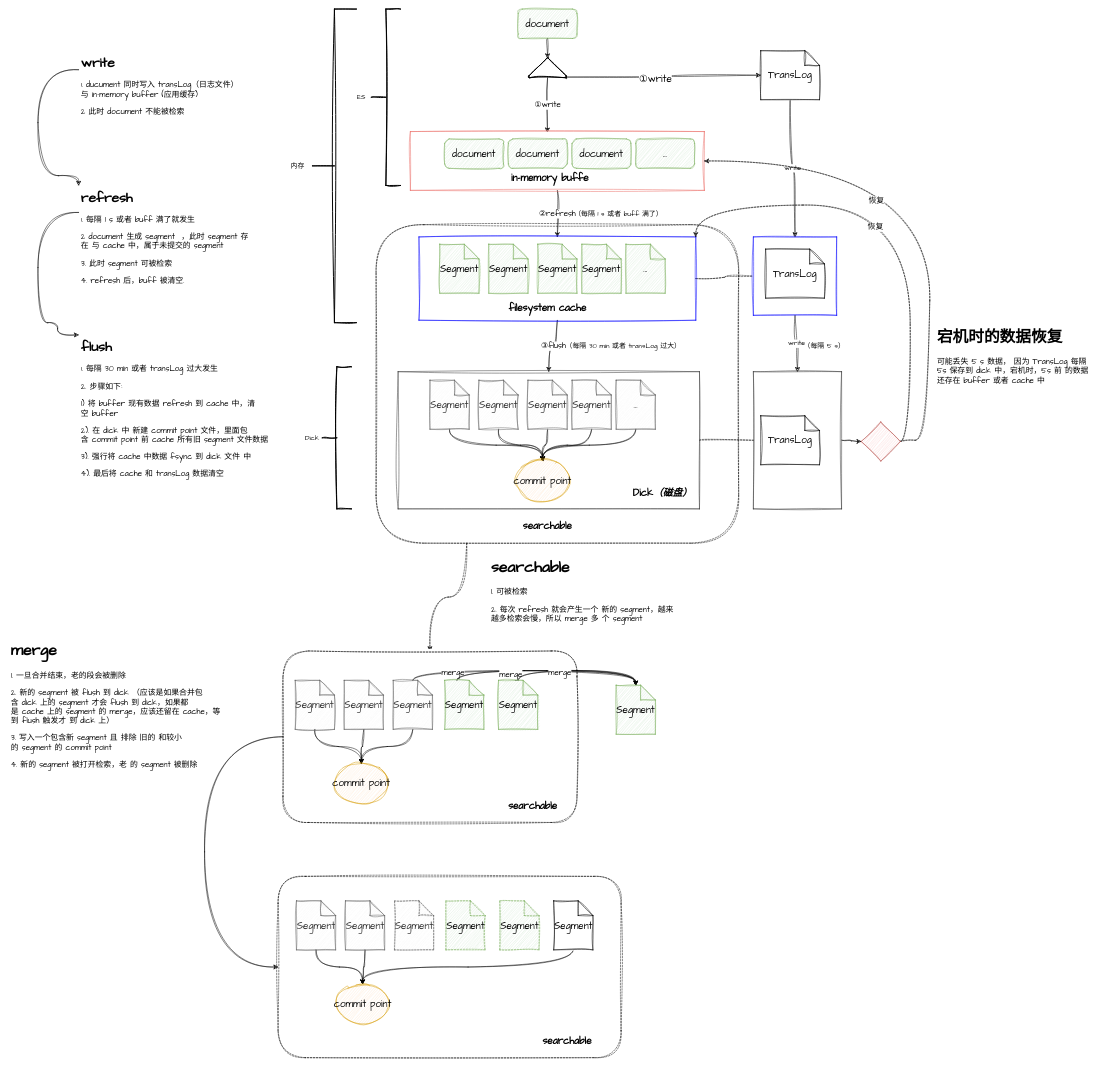
This 1104x1066 diagram has some shape labels left out. The shapes that lost their labels are listed below. From the top down, each one's centre as x and y in pixels, then its label:
point 547,67: 同时
point 880,441: 宕机
